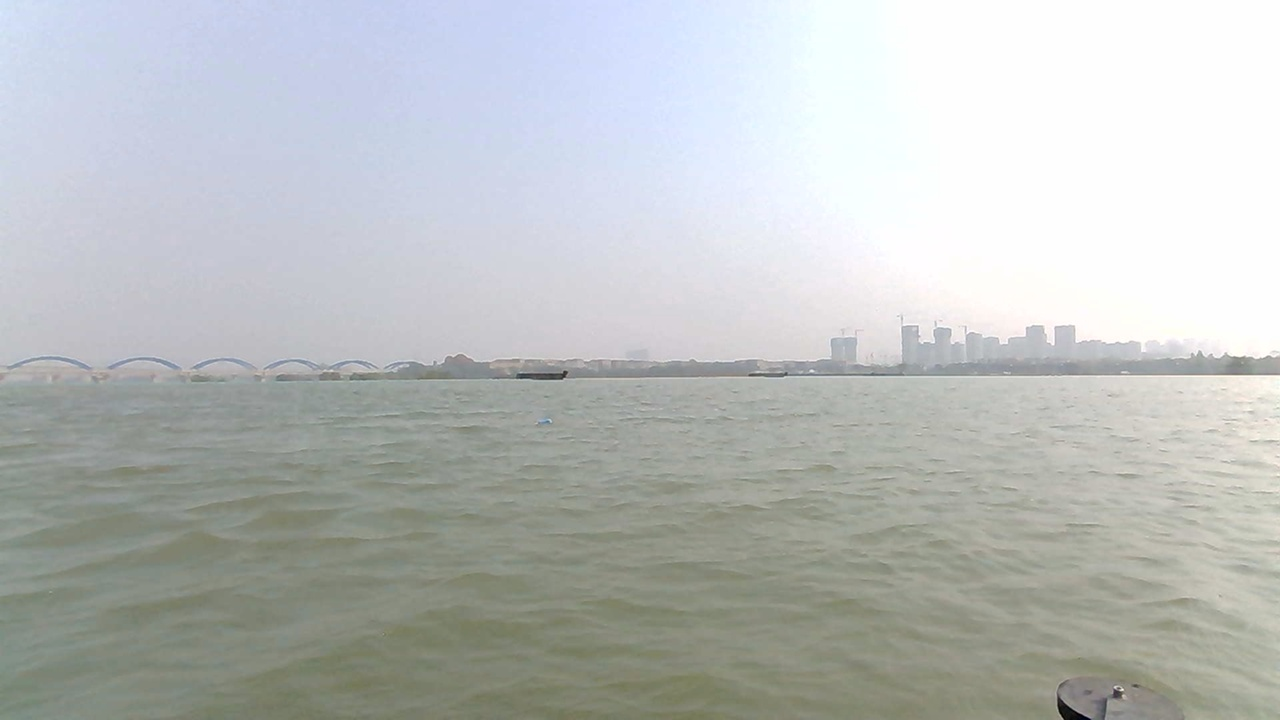bottle: (531, 416, 559, 429)
